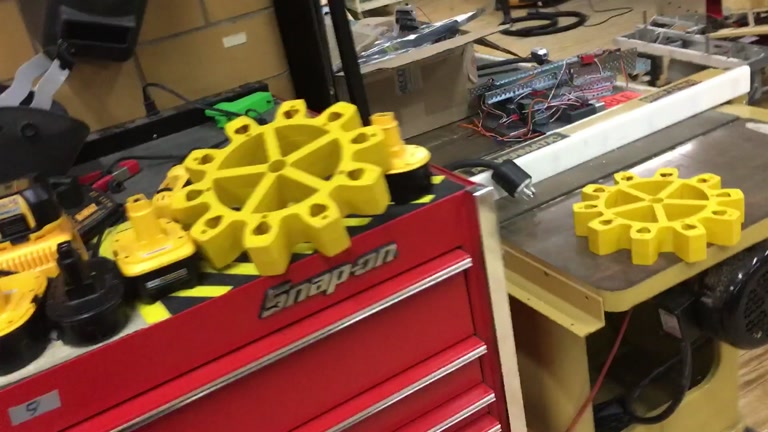gear: (169, 99, 394, 277), (572, 168, 745, 265)
